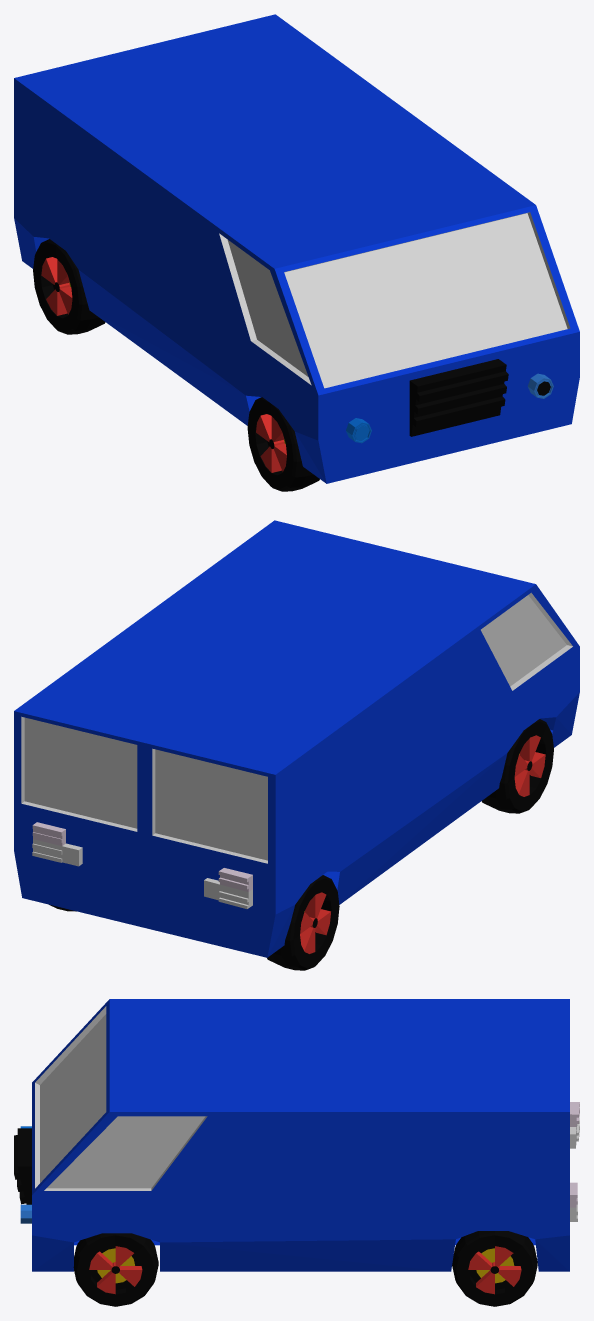
Rendered from van.dae.
3 renders of one model, top to bottom at view 1: azimuth 30°, elevation 25°; view 2: azimuth 150°, elevation 25°; view 3: azimuth 270°, elevation 25°, orthographic. The views are drawn at different scales.
Parts seen in each view (by area): view 1: Cube, Cube_001, Cylinder_004_001, Cylinder_004; view 2: Cube, Cylinder_004_001, Cylinder_004, Cube_002; view 3: Cube, Cylinder_002_001, Cylinder_002, Cube_001, Cube_002.
Boxes of the visible parts, <box> form: Cube: <box>14,14,579,483</box>; Cube_001: <box>409,359,508,436</box>; Cylinder_004_001: <box>33,239,105,334</box>; Cylinder_004: <box>247,397,319,491</box>; Cube: <box>14,520,579,957</box>; Cylinder_004_001: <box>267,875,339,970</box>; Cylinder_004: <box>481,719,553,813</box>; Cube_002: <box>32,822,252,908</box>; Cube: <box>32,999,569,1271</box>; Cylinder_002_001: <box>452,1231,537,1306</box>; Cylinder_002: <box>73,1233,158,1306</box>; Cube_001: <box>14,1128,31,1204</box>; Cube_002: <box>570,1102,579,1221</box>.
Size of the model in its own units: 5.91 by 12.49 by 4.84.
